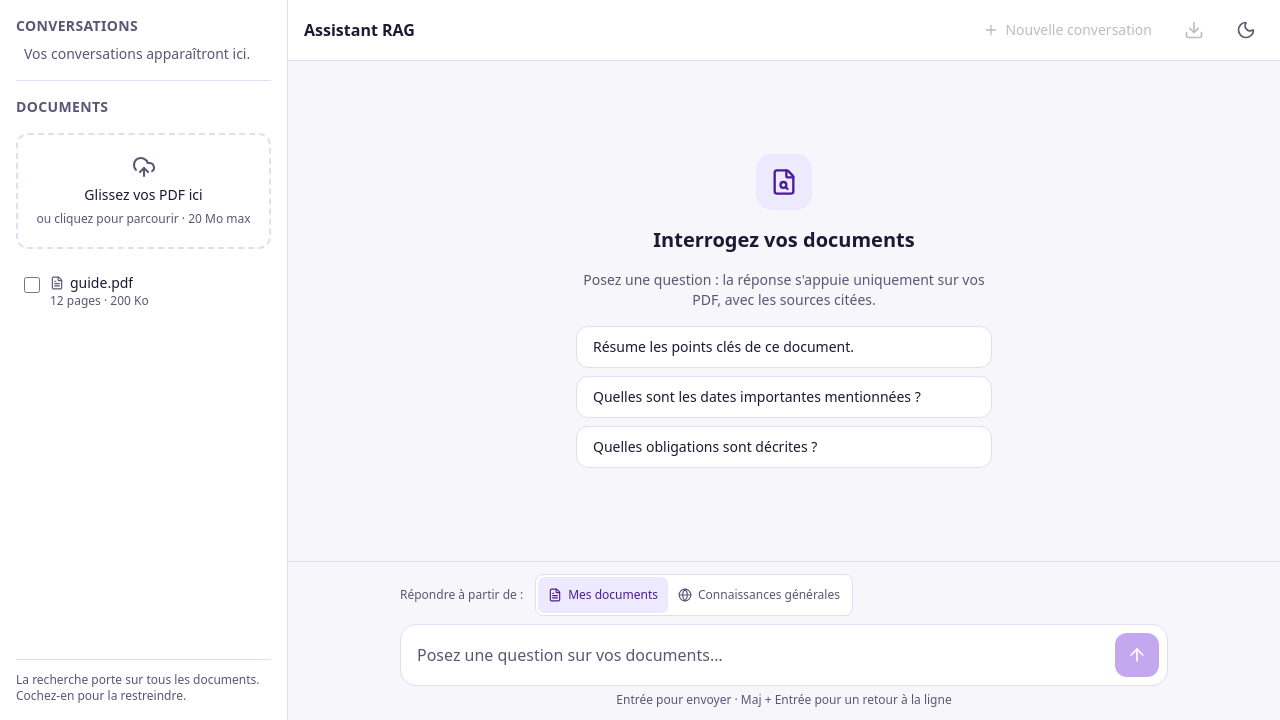
Test: App › answers from general knowledge when that mode is chosen, and says so
This screenshot has width=1280, height=720.
Expected: the text "guide.pdf" is shown, [70,273,133,293]
Click the radio button labelled "Connaissances générales". click: (759,594)
box: [678,586,840,603]
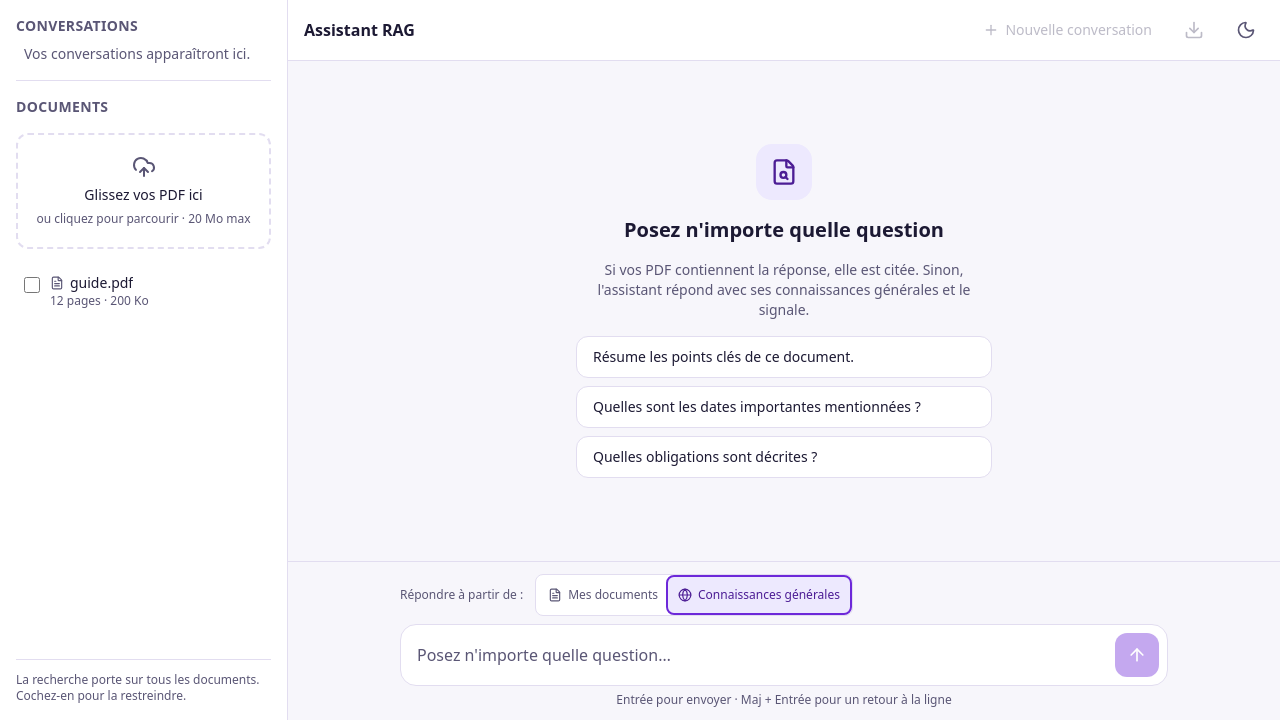
Result: the text box named "Votre question" has attribute placeholder="Posez n'importe quelle question…"
Type "Capitale de la France ?" into the text box named "Votre question". click: (758,655)
box: [409,633,1107,677]
Then press Enter
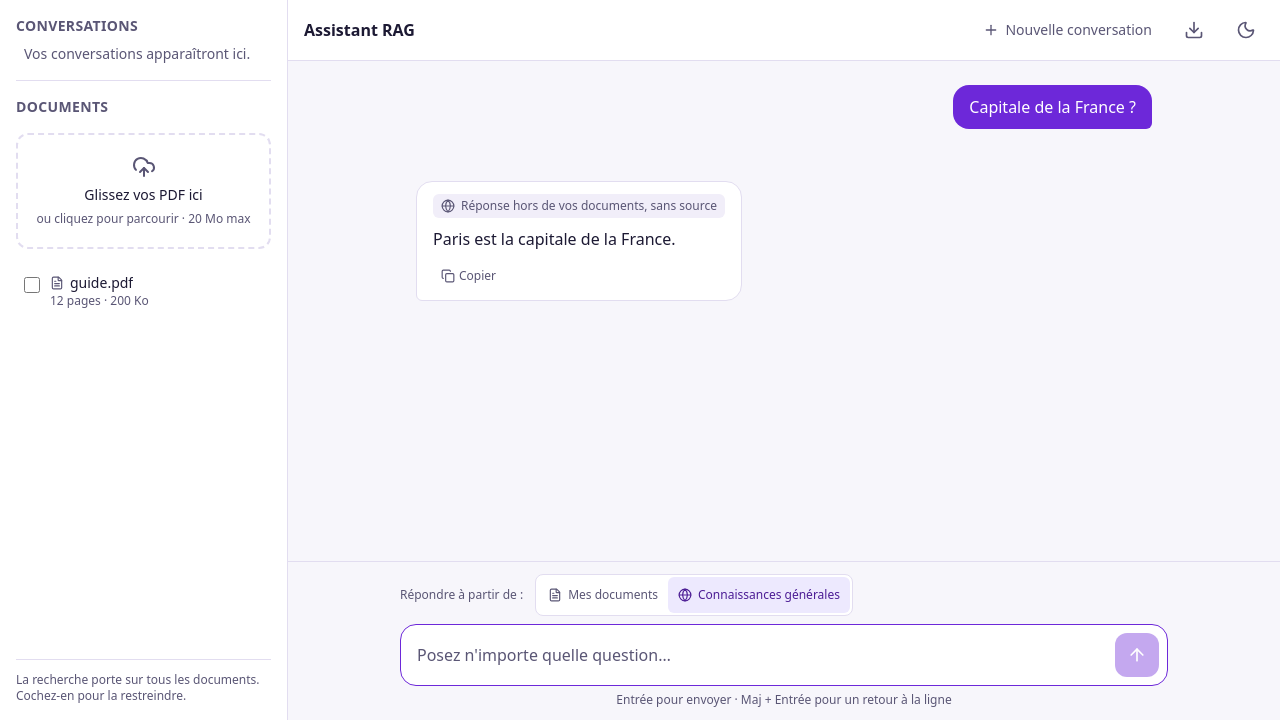
Result: the text "Réponse hors de vos documents, sans source" is shown at [433,194,725,218]
